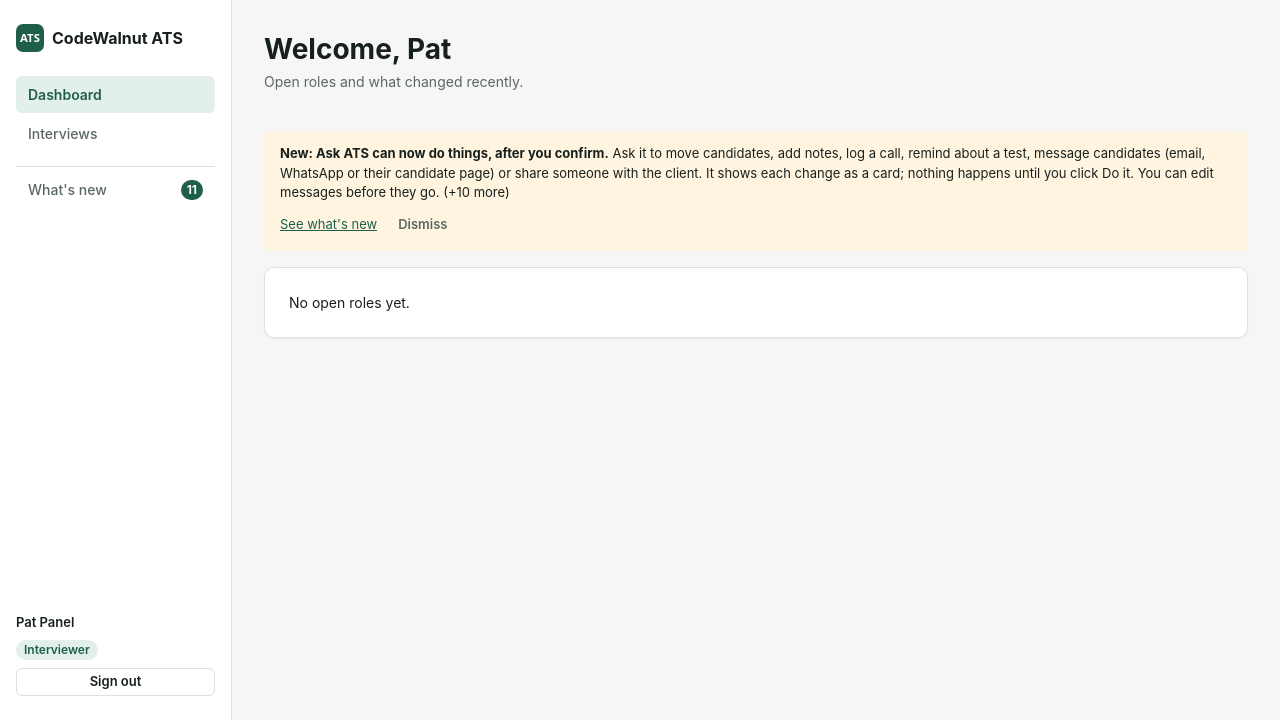
Scenario: What's new › dismissing the dashboard note marks everything seen
Step 1. Click the button "Dismiss" → (423, 224), box x1=385 y1=210 x2=460 y2=238
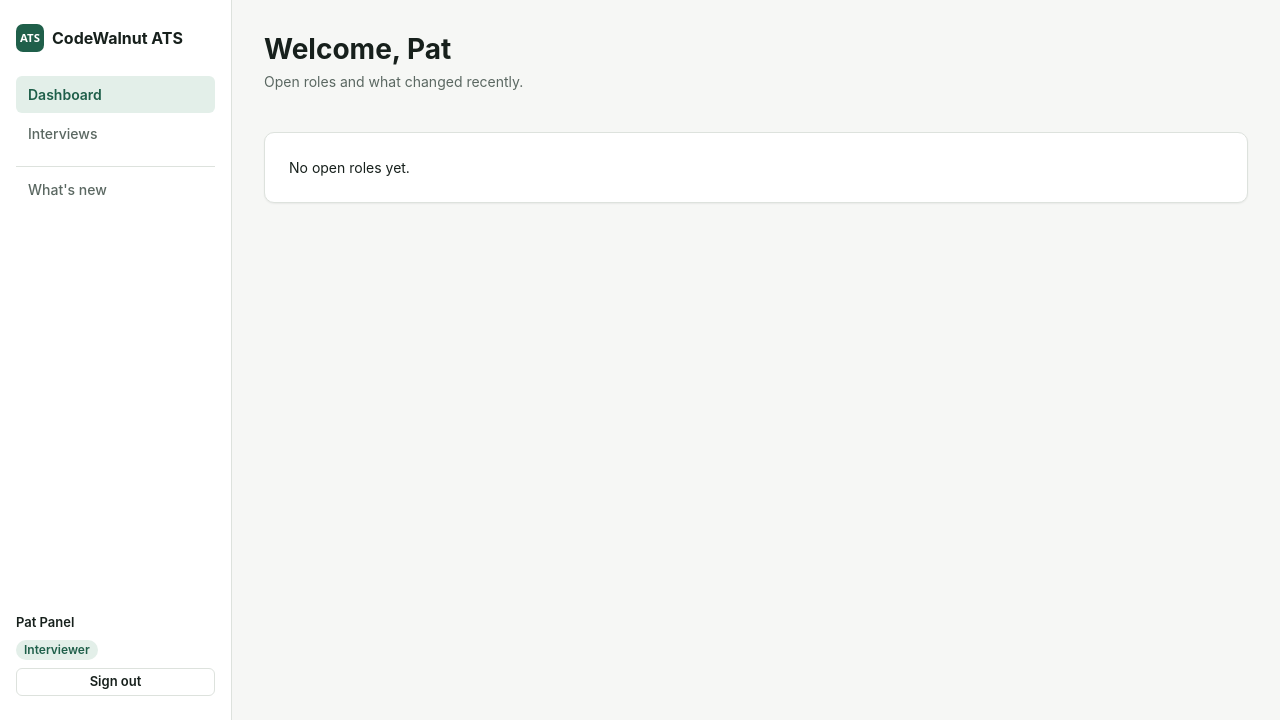
Expected: the message is gone
